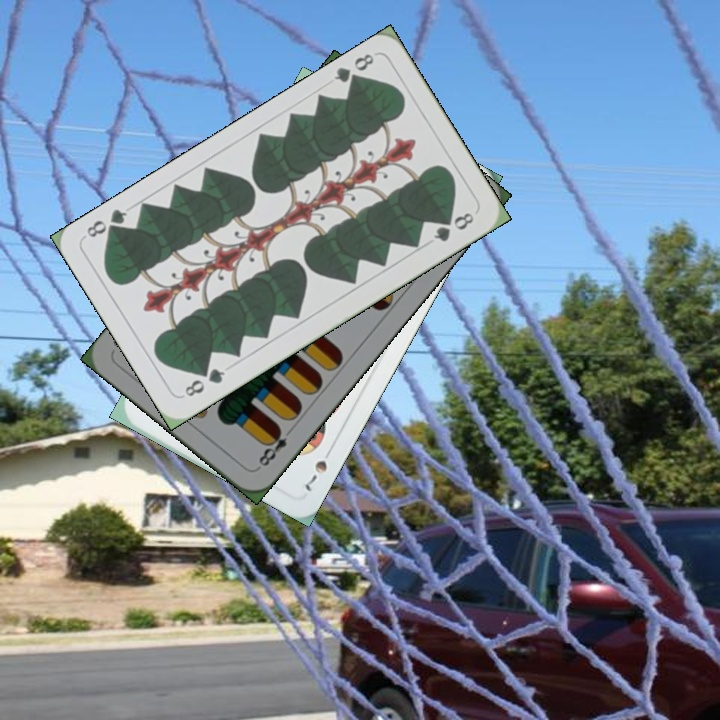E8: (253, 423, 296, 472)
G8: (329, 49, 377, 90), (180, 364, 228, 400)
S7: (299, 442, 336, 494)
